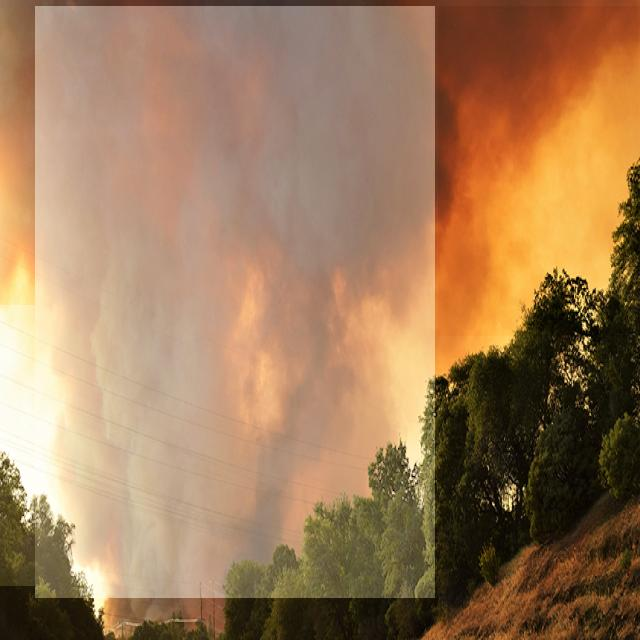Fire: (0, 305, 98, 586)
Smoke: (36, 6, 436, 598), (438, 6, 640, 336)
